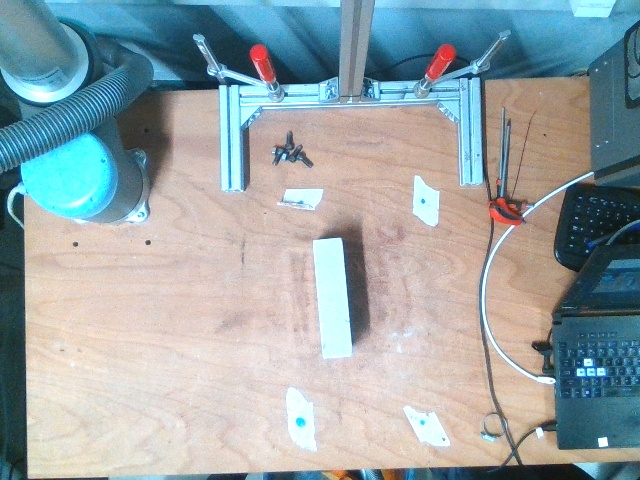brick-side: (313, 237, 354, 359)
